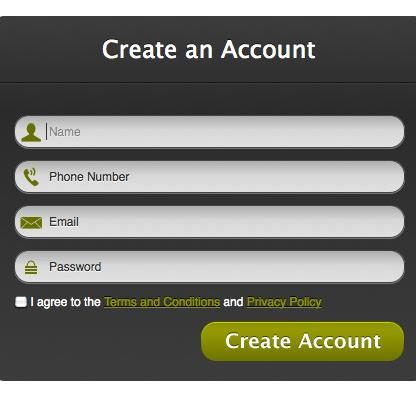button: (200, 321, 404, 361)
checkbox: (14, 296, 30, 309)
checkbox_with_label: (12, 294, 325, 310)
field: (12, 250, 405, 285), (14, 114, 405, 149), (14, 160, 405, 194), (14, 205, 405, 239)
